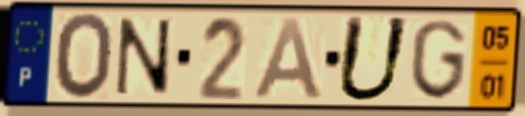2: (194, 13, 251, 102)
A: (250, 15, 327, 103)
G: (408, 17, 468, 103)
N: (114, 15, 173, 98)
O: (53, 10, 116, 103)
U: (332, 13, 414, 106)
